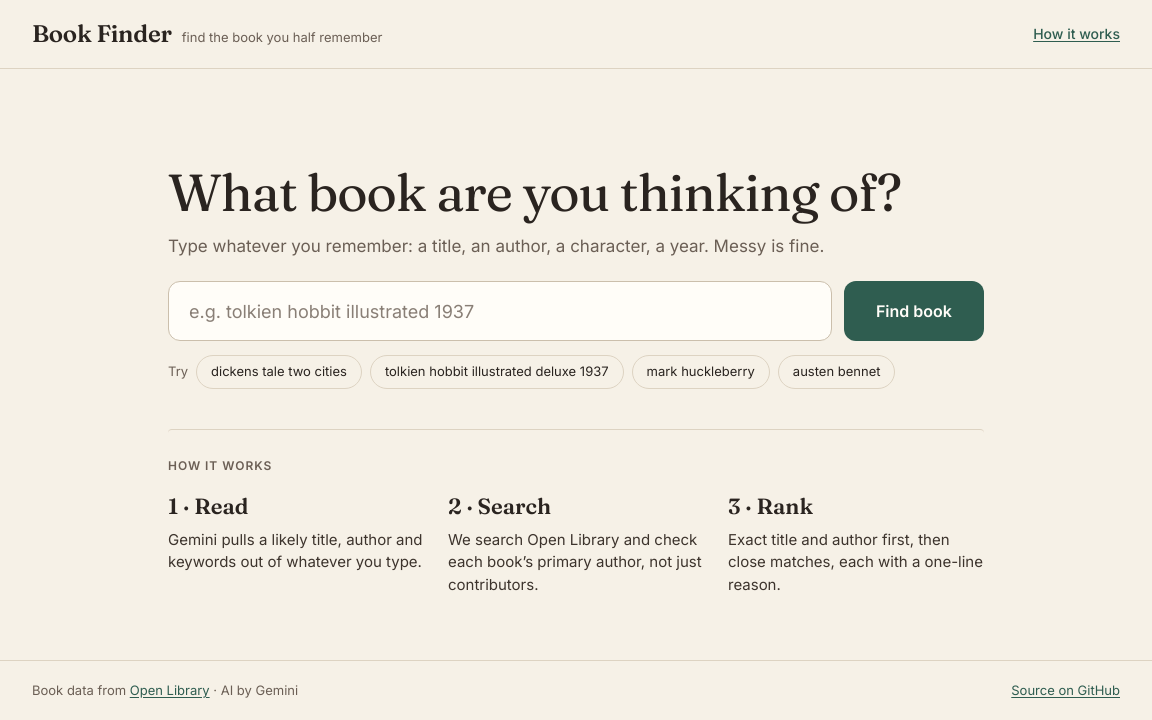
App › runs an example chip and focuses the search box on "/"
Later steps or results of the test are not shown.
Step 1. Click the button "mark huckleberry" → (701, 372), box 632,355 -> 770,389
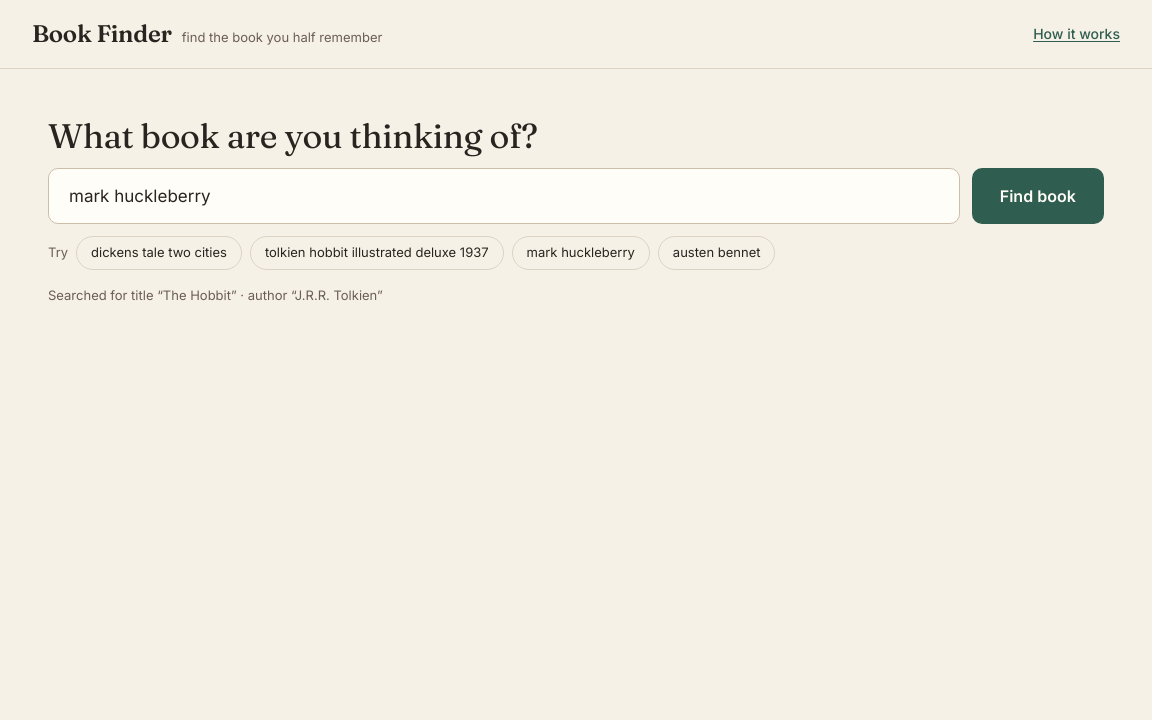
Expected: the search field labelled "What book are you thinking of?" holds "mark huckleberry", 48,168 -> 960,224
